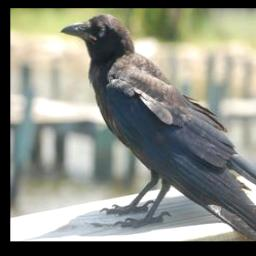Crow: (59, 14, 256, 241)
